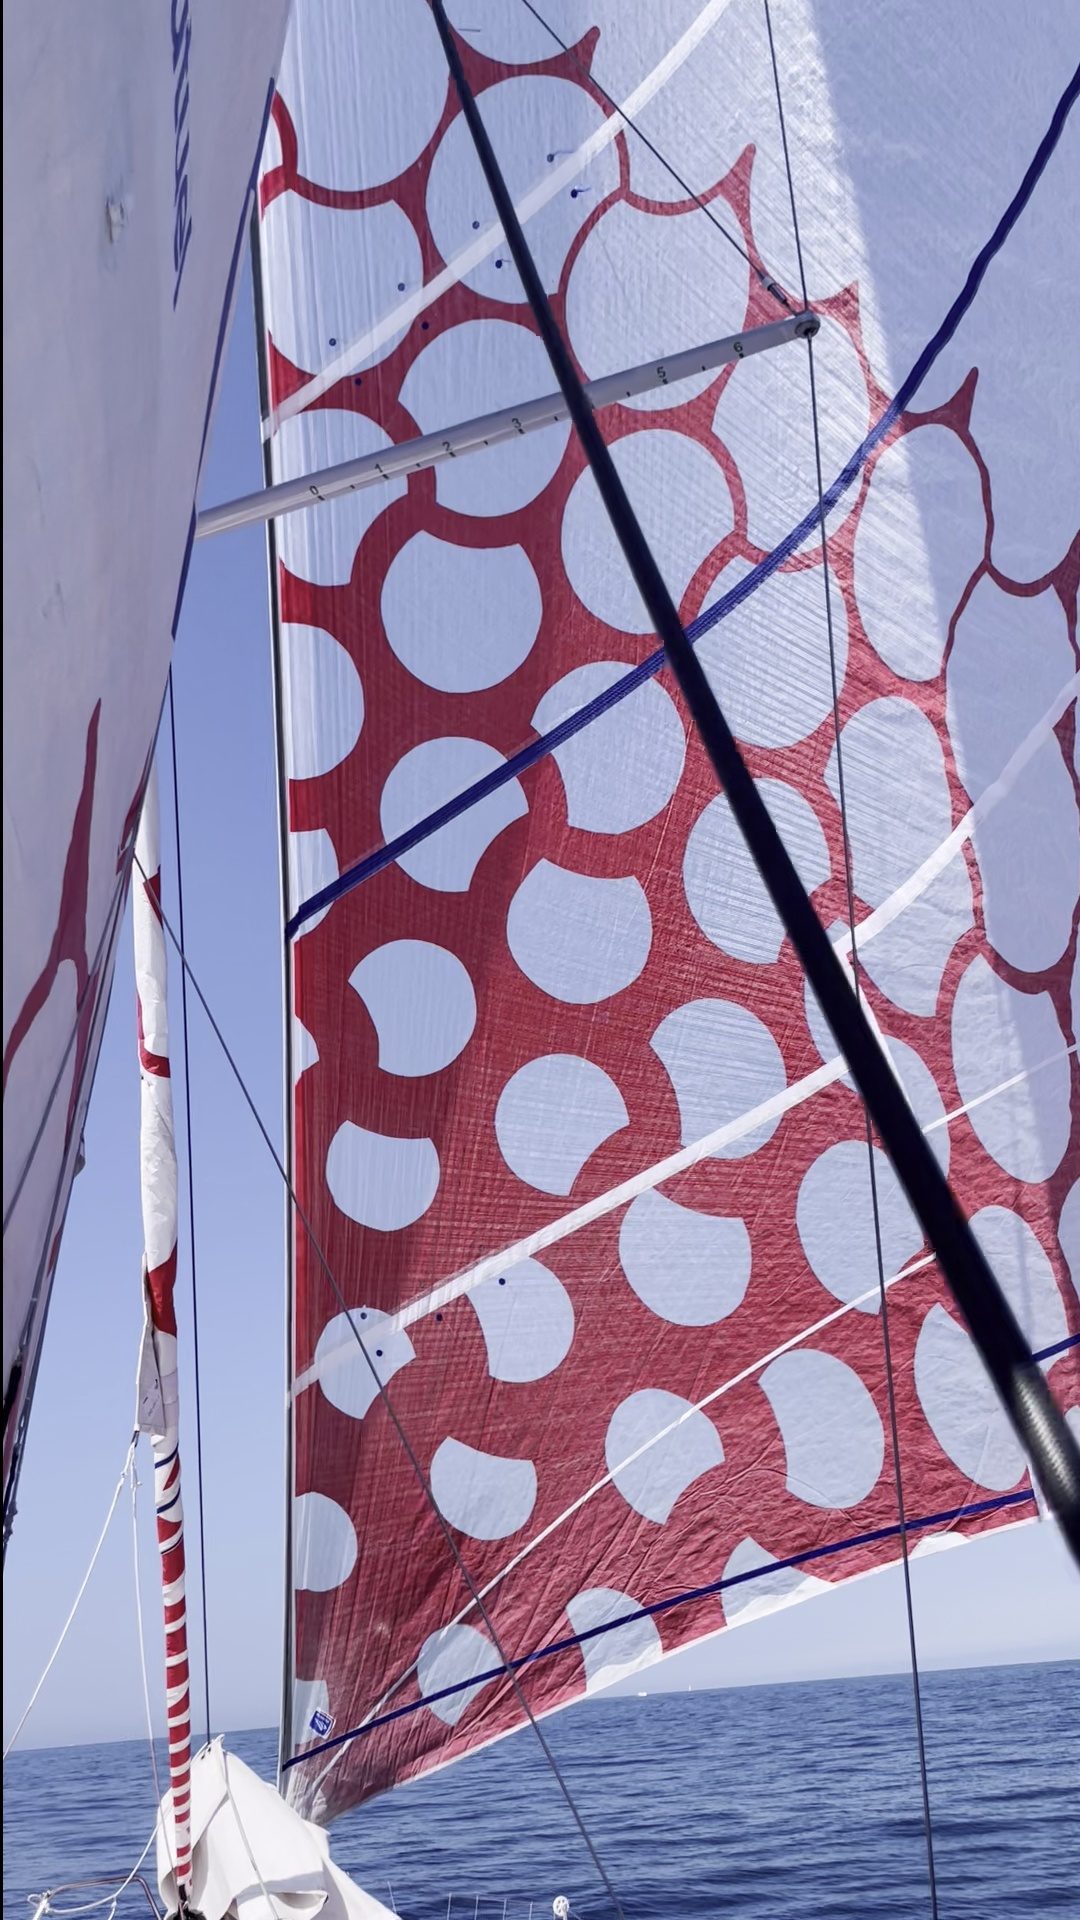pennon_detached: (560, 183, 601, 206), (496, 257, 509, 276)
